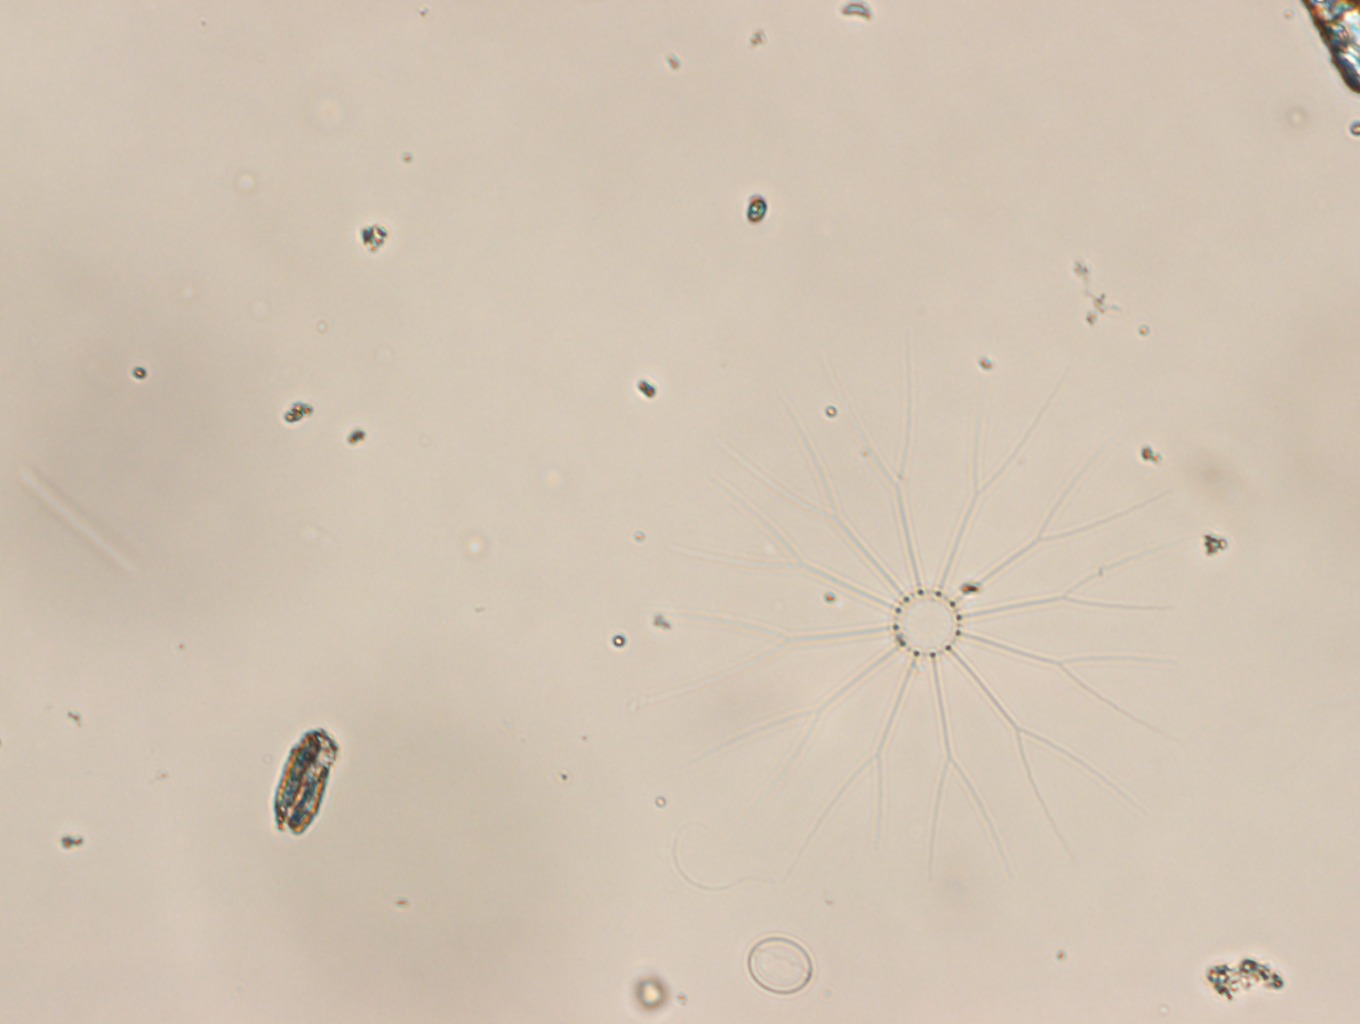bacteriastrum: (681, 349, 1193, 873)
